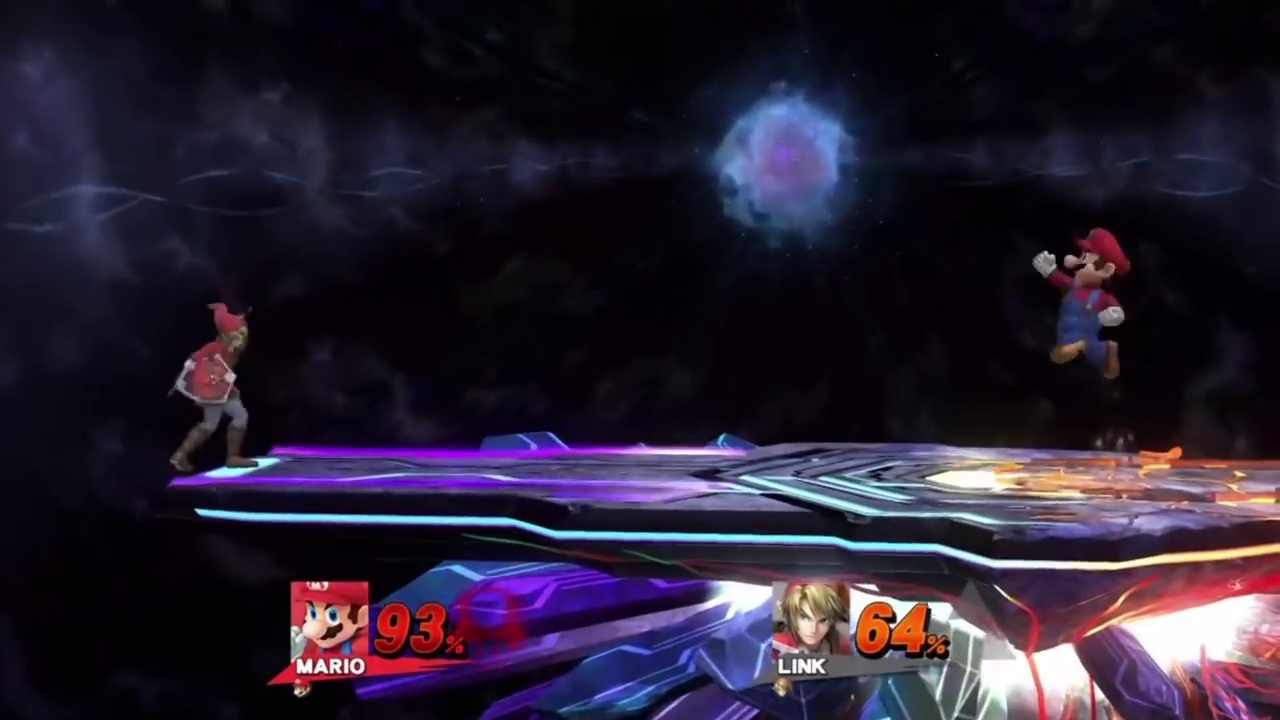Mario: (1024, 226, 1130, 379)
